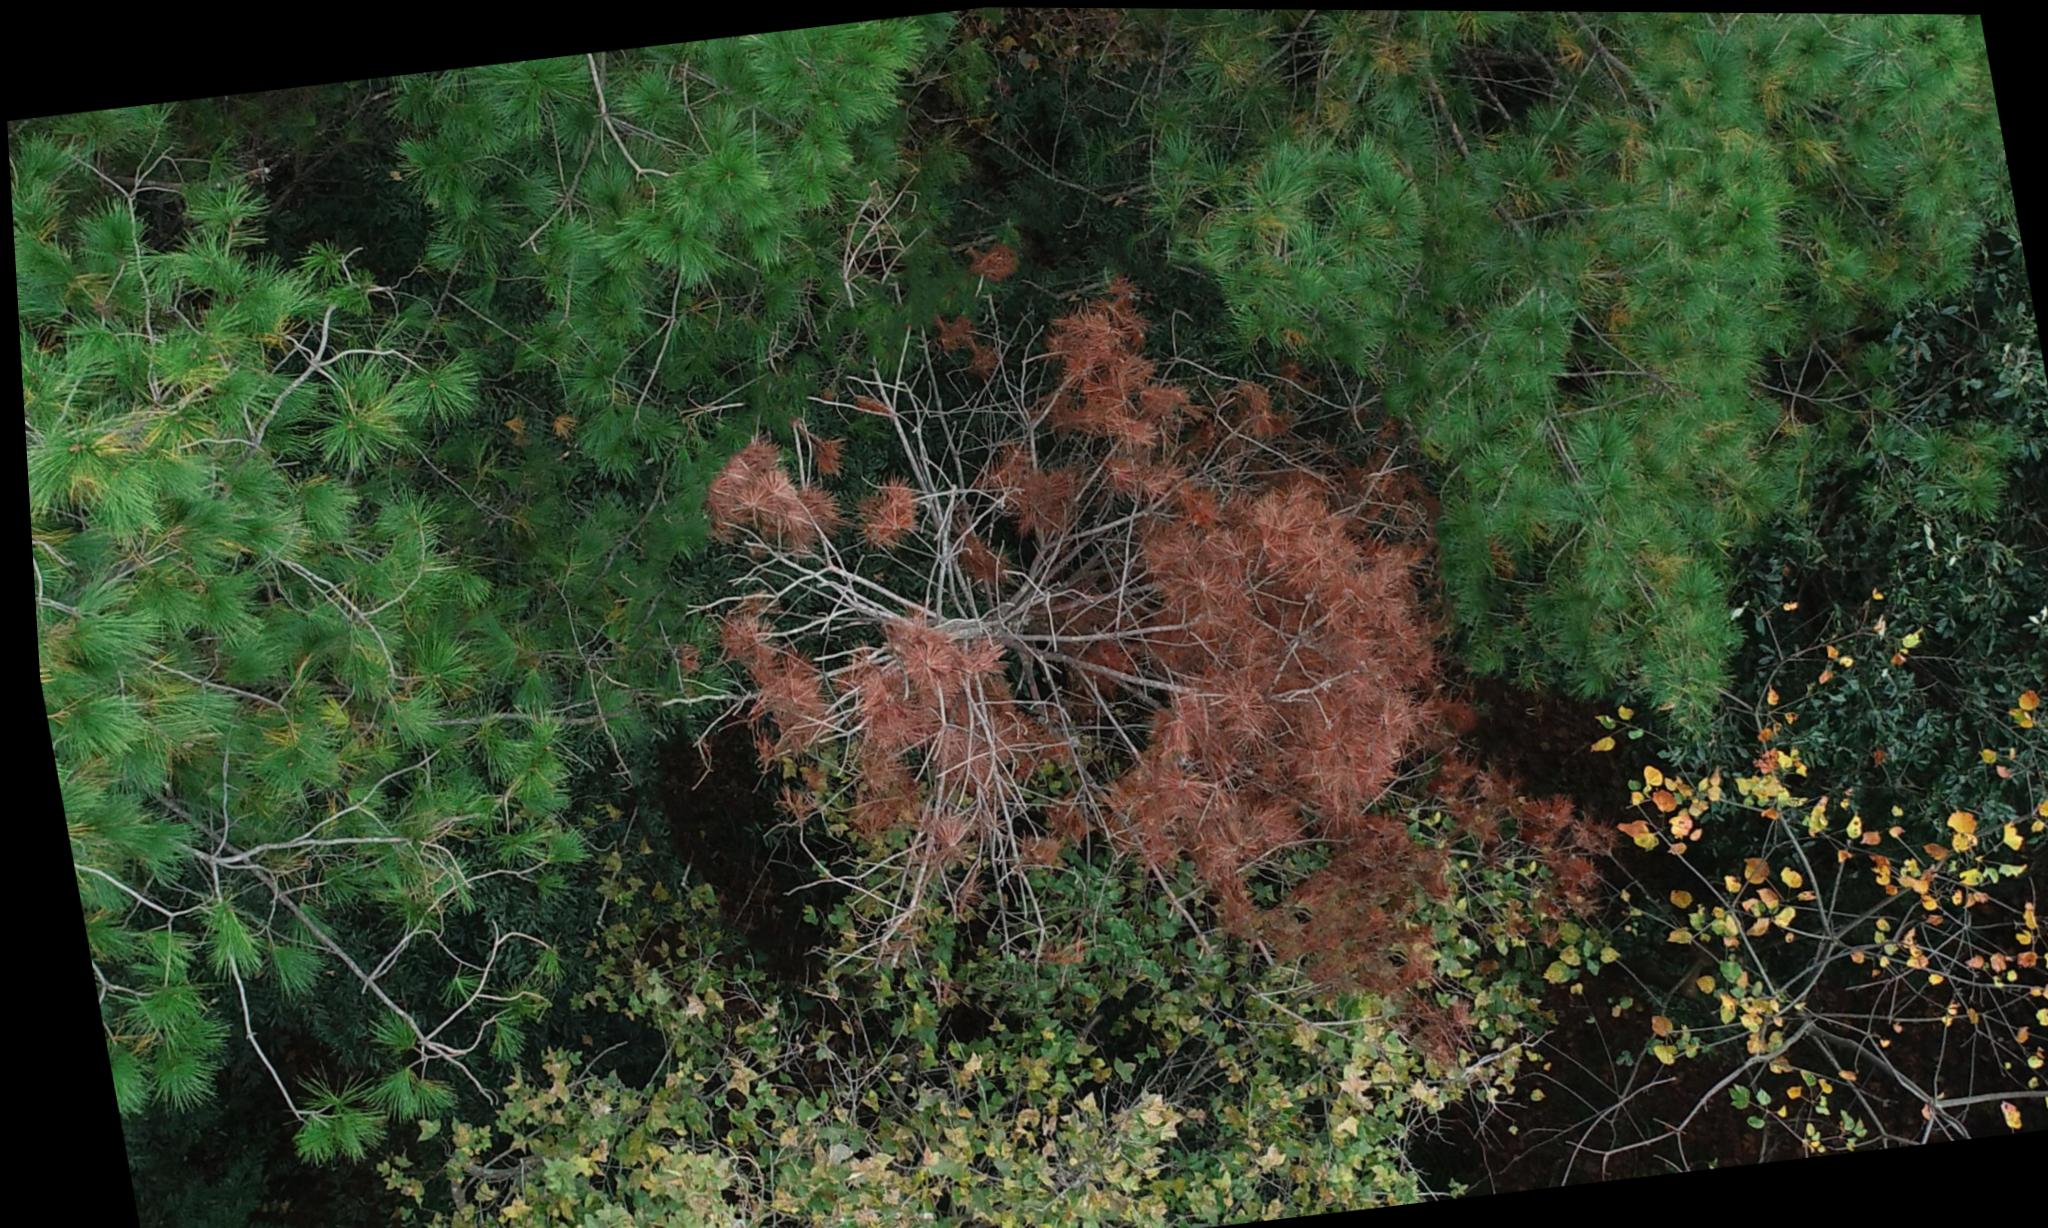heavy: (653, 218, 1506, 1016)
light: (12, 256, 456, 906), (1452, 35, 1902, 648)
